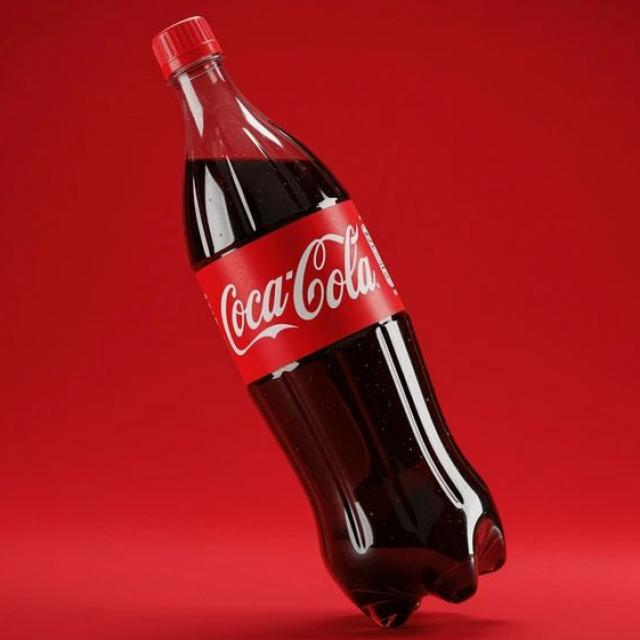supermarket-product: (164, 222, 474, 431), (199, 202, 403, 381)
